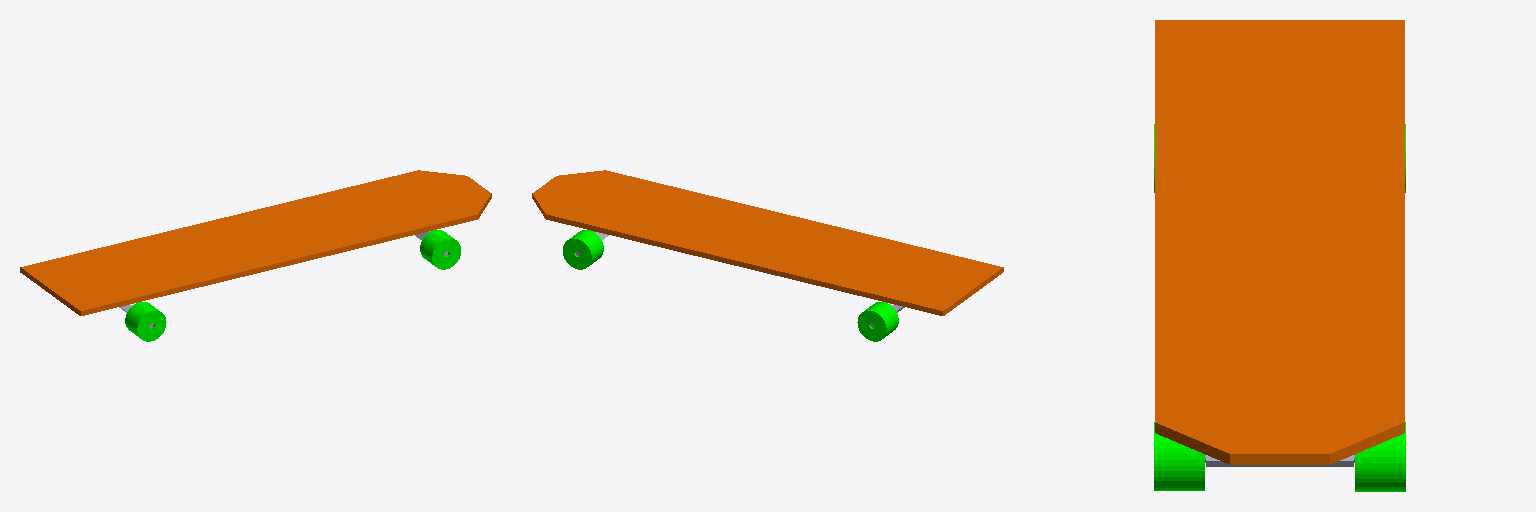
URDF robot description (longboard_urdf):
<robot
  name="longboard_urdf">
  <link
    name="base_link">
    <inertial>
      <origin
        xyz="-0.010943 1.0455E-16 0.006"
        rpy="0 0 0" />
      <mass
        value="3.0225" />
      <inertia
        ixx="0.75"
        ixy="0"
        ixz="0"
        iyy="0.75"
        iyz="0"
        izz="0.75" />
    </inertial>
    <visual>
      <origin
        xyz="0 0 0"
        rpy="0 0 0" />
      <geometry>
        <mesh
          filename="package://longboard_urdf/meshes/base_link.STL" />
      </geometry>
      <material
        name="">
        <color
          rgba="0.9098 0.44314 0.031373 1" />
      </material>
    </visual>
    <collision>
      <origin
        xyz="0 0 0"
        rpy="0 0 0" />
      <geometry>
        <mesh
          filename="package://longboard_urdf/meshes/base_link.STL" />
      </geometry>
    </collision>
  </link>
  <link
    name="baseplate_f">
    <inertial>
      <origin
        xyz="0.0026044 -2.5171E-17 0.012434"
        rpy="0 0 0" />
      <mass
        value="0.18289" />
      <inertia
        ixx="0"
        ixy="0"
        ixz="0"
        iyy="0"
        iyz="0"
        izz="0" />
    </inertial>
    <visual>
      <origin
        xyz="0 0 0"
        rpy="0 0 0" />
      <geometry>
        <mesh
          filename="package://longboard_urdf/meshes/baseplate_f.STL" />
      </geometry>
      <material
        name="">
        <color
          rgba="0.66667 0.69804 0.76863 1" />
      </material>
    </visual>
    <collision>
      <origin
        xyz="0 0 0"
        rpy="0 0 0" />
      <geometry>
        <mesh
          filename="package://longboard_urdf/meshes/baseplate_f.STL" />
      </geometry>
    </collision>
  </link>
  <joint
    name="baseplate_f_mount"
    type="fixed">
    <origin
      xyz="0.36648 0 0"
      rpy="3.1416 1.2246E-16 3.1416" />
    <parent
      link="base_link" />
    <child
      link="baseplate_f" />
    <axis
      xyz="0 0 0" />
  </joint>
  <link
    name="hanger_f">
    <inertial>
      <origin
        xyz="1.0059E-17 0.0061071 0.034635"
        rpy="0 0 0" />
      <mass
        value="0.26955" />
      <inertia
        ixx="0"
        ixy="0"
        ixz="0"
        iyy="0"
        iyz="0"
        izz="0" />
    </inertial>
    <visual>
      <origin
        xyz="0 0 0"
        rpy="0 0 0" />
      <geometry>
        <mesh
          filename="package://longboard_urdf/meshes/hanger_f.STL" />
      </geometry>
      <material
        name="">
        <color
          rgba="0.66667 0.69804 0.76863 1" />
      </material>
    </visual>
    <collision>
      <origin
        xyz="0 0 0"
        rpy="0 0 0" />
      <geometry>
        <mesh
          filename="package://longboard_urdf/meshes/hanger_f.STL" />
      </geometry>
    </collision>
  </link>
  <joint
    name="hanger_f_mount"
    type="revolute">
    <origin
      xyz="-0.02855 0 0.023956"
      rpy="0.87266 -1.9096E-16 1.5708" />
    <parent
      link="baseplate_f" />
    <child
      link="hanger_f" />
    <axis
      xyz="0 -0.17365 -0.98481" />
    <limit
      lower="-1"
      upper="1"
      effort="0"
      velocity="0" />
    <dynamics
      damping="1"
      friction="0.5" />
    <safety_controller
      soft_upper="0.9"
      soft_lower="-0.9"
      k_velocity="0" />
  </joint>
  <link
    name="wheel_f_right">
    <inertial>
      <origin
        xyz="-5.5511E-17 -2.0817E-17 -0.0254"
        rpy="0 0 0" />
      <mass
        value="0.18771" />
      <inertia
        ixx="0"
        ixy="0"
        ixz="0"
        iyy="0"
        iyz="0"
        izz="0.75" />
    </inertial>
    <visual>
      <origin
        xyz="0 0 0"
        rpy="0 0 0" />
      <geometry>
        <mesh
          filename="package://longboard_urdf/meshes/wheel_f_right.STL" />
      </geometry>
      <material
        name="">
        <color
          rgba="0 1 0 1" />
      </material>
    </visual>
    <collision>
      <origin
        xyz="0 0 0"
        rpy="0 0 0" />
      <geometry>
        <mesh
          filename="package://longboard_urdf/meshes/wheel_f_right.STL" />
      </geometry>
    </collision>
  </link>
  <joint
    name="wheel_f_right_mount"
    type="continuous">
    <origin
      xyz="-0.075547 0.0084819 0.048103"
      rpy="-1.5708 -0.87266 -1.5708" />
    <parent
      link="hanger_f" />
    <child
      link="wheel_f_right" />
    <axis
      xyz="0 0 -1" />
    <dynamics
      friction="0.5" />
  </joint>
  <link
    name="wheel_f_left">
    <inertial>
      <origin
        xyz="0 0 -0.0254"
        rpy="0 0 0" />
      <mass
        value="0.18771" />
      <inertia
        ixx="0"
        ixy="0"
        ixz="0"
        iyy="0"
        iyz="0"
        izz="0.75" />
    </inertial>
    <visual>
      <origin
        xyz="0 0 0"
        rpy="0 0 0" />
      <geometry>
        <mesh
          filename="package://longboard_urdf/meshes/wheel_f_left.STL" />
      </geometry>
      <material
        name="">
        <color
          rgba="0 1 0 1" />
      </material>
    </visual>
    <collision>
      <origin
        xyz="0 0 0"
        rpy="0 0 0" />
      <geometry>
        <mesh
          filename="package://longboard_urdf/meshes/wheel_f_left.STL" />
      </geometry>
    </collision>
  </link>
  <joint
    name="wheel_f_left_mount"
    type="continuous">
    <origin
      xyz="0.075547 0.0084819 0.048103"
      rpy="-1.5708 0.87266 1.5708" />
    <parent
      link="hanger_f" />
    <child
      link="wheel_f_left" />
    <axis
      xyz="0 0 1" />
    <dynamics
      friction="0.5" />
  </joint>
  <link
    name="baseplate_r">
    <inertial>
      <origin
        xyz="0.0026044 -7.6121E-19 0.012434"
        rpy="0 0 0" />
      <mass
        value="0.18289" />
      <inertia
        ixx="0"
        ixy="0"
        ixz="0"
        iyy="0"
        iyz="0"
        izz="0" />
    </inertial>
    <visual>
      <origin
        xyz="0 0 0"
        rpy="0 0 0" />
      <geometry>
        <mesh
          filename="package://longboard_urdf/meshes/baseplate_r.STL" />
      </geometry>
      <material
        name="">
        <color
          rgba="0.66667 0.69804 0.76863 1" />
      </material>
    </visual>
    <collision>
      <origin
        xyz="0 0 0"
        rpy="0 0 0" />
      <geometry>
        <mesh
          filename="package://longboard_urdf/meshes/baseplate_r.STL" />
      </geometry>
    </collision>
  </link>
  <joint
    name="baseplate_r_mount"
    type="fixed">
    <origin
      xyz="-0.34726 0 0"
      rpy="-3.1416 0 0" />
    <parent
      link="base_link" />
    <child
      link="baseplate_r" />
    <axis
      xyz="0 0 0" />
  </joint>
  <link
    name="hanger_r">
    <inertial>
      <origin
        xyz="-3.1593E-17 0.013676 0"
        rpy="0 0 0" />
      <mass
        value="0.26955" />
      <inertia
        ixx="0"
        ixy="0"
        ixz="0"
        iyy="0"
        iyz="0"
        izz="0" />
    </inertial>
    <visual>
      <origin
        xyz="0 0 0"
        rpy="0 0 0" />
      <geometry>
        <mesh
          filename="package://longboard_urdf/meshes/hanger_r.STL" />
      </geometry>
      <material
        name="">
        <color
          rgba="0.66667 0.69804 0.76863 1" />
      </material>
    </visual>
    <collision>
      <origin
        xyz="0 0 0"
        rpy="0 0 0" />
      <geometry>
        <mesh
          filename="package://longboard_urdf/meshes/hanger_r.STL" />
      </geometry>
    </collision>
  </link>
  <joint
    name="hanger_r_mount"
    type="revolute">
    <origin
      xyz="0.0028474 0 0.061374"
      rpy="-0.87266 1.3066E-16 1.5708" />
    <parent
      link="baseplate_r" />
    <child
      link="hanger_r" />
    <axis
      xyz="0 1 0" />
    <limit
      lower="-1"
      upper="1"
      effort="0"
      velocity="0" />
    <dynamics
      damping="1"
      friction="0.5" />
    <safety_controller
      soft_upper="0.9"
      soft_lower="-0.9"
      k_velocity="0" />
  </joint>
  <link
    name="wheel_r_right">
    <inertial>
      <origin
        xyz="-5.5511E-17 0 0"
        rpy="0 0 0" />
      <mass
        value="0.18771" />
      <inertia
        ixx="0"
        ixy="0"
        ixz="0"
        iyy="0"
        iyz="0"
        izz="0.75" />
    </inertial>
    <visual>
      <origin
        xyz="0 0 0"
        rpy="0 0 0" />
      <geometry>
        <mesh
          filename="package://longboard_urdf/meshes/wheel_r_right.STL" />
      </geometry>
      <material
        name="">
        <color
          rgba="0 1 0 1" />
      </material>
    </visual>
    <collision>
      <origin
        xyz="0 0 0"
        rpy="0 0 0" />
      <geometry>
        <mesh
          filename="package://longboard_urdf/meshes/wheel_r_right.STL" />
      </geometry>
    </collision>
  </link>
  <joint
    name="wheel_r_right_mount"
    type="continuous">
    <origin
      xyz="0.10095 0 0"
      rpy="-1.5708 -0.87266 1.5708" />
    <parent
      link="hanger_r" />
    <child
      link="wheel_r_right" />
    <axis
      xyz="0 0 -1" />
    <dynamics
      friction="0.5" />
  </joint>
  <link
    name="wheel_r_left">
    <inertial>
      <origin
        xyz="5.5511E-17 0 0"
        rpy="0 0 0" />
      <mass
        value="0.18771" />
      <inertia
        ixx="0"
        ixy="0"
        ixz="0"
        iyy="0"
        iyz="0"
        izz="0.75" />
    </inertial>
    <visual>
      <origin
        xyz="0 0 0"
        rpy="0 0 0" />
      <geometry>
        <mesh
          filename="package://longboard_urdf/meshes/wheel_r_left.STL" />
      </geometry>
      <material
        name="">
        <color
          rgba="0 1 0 1" />
      </material>
    </visual>
    <collision>
      <origin
        xyz="0 0 0"
        rpy="0 0 0" />
      <geometry>
        <mesh
          filename="package://longboard_urdf/meshes/wheel_r_left.STL" />
      </geometry>
    </collision>
  </link>
  <joint
    name="wheel_r_left_mount"
    type="continuous">
    <origin
      xyz="-0.10095 0 0"
      rpy="-1.5708 0.87266 -1.5708" />
    <parent
      link="hanger_r" />
    <child
      link="wheel_r_left" />
    <axis
      xyz="0 0 1" />
    <dynamics
      friction="0.5" />
  </joint>
</robot>

--- Facts derived from the render (not from the file) ---
Views: 3 orthographic renders of the robot side by side, from view 1: azimuth 30°, elevation 25°; view 2: azimuth 150°, elevation 25°; view 3: azimuth 270°, elevation 25°.
Robot: longboard_urdf — 9 links, 8 joints (2 revolute, 4 continuous, 2 fixed); root link base_link; default pose: every joint at zero.
Visible links, largest first — view 1: base_link, wheel_r_right, wheel_f_right; view 2: base_link, wheel_r_left, wheel_f_left; view 3: base_link, wheel_f_left, wheel_f_right, hanger_f.
Boxes of the visible links, x1,y1,x2,y2 form: base_link: (20,170,491,315); wheel_r_right: (125,302,166,341); wheel_f_right: (420,230,460,269); base_link: (532,170,1003,315); wheel_r_left: (857,302,898,341); wheel_f_left: (563,230,603,269); base_link: (1155,20,1404,464); wheel_f_left: (1355,422,1405,491); wheel_f_right: (1154,422,1204,490); hanger_f: (1205,455,1354,466).
Bounding box of the posed robot: 1.03 × 0.2527 × 0.1083 m (x, y, z).
Meshes: 9 distinct files referenced, 9 mesh visuals loaded (9 binary STL).